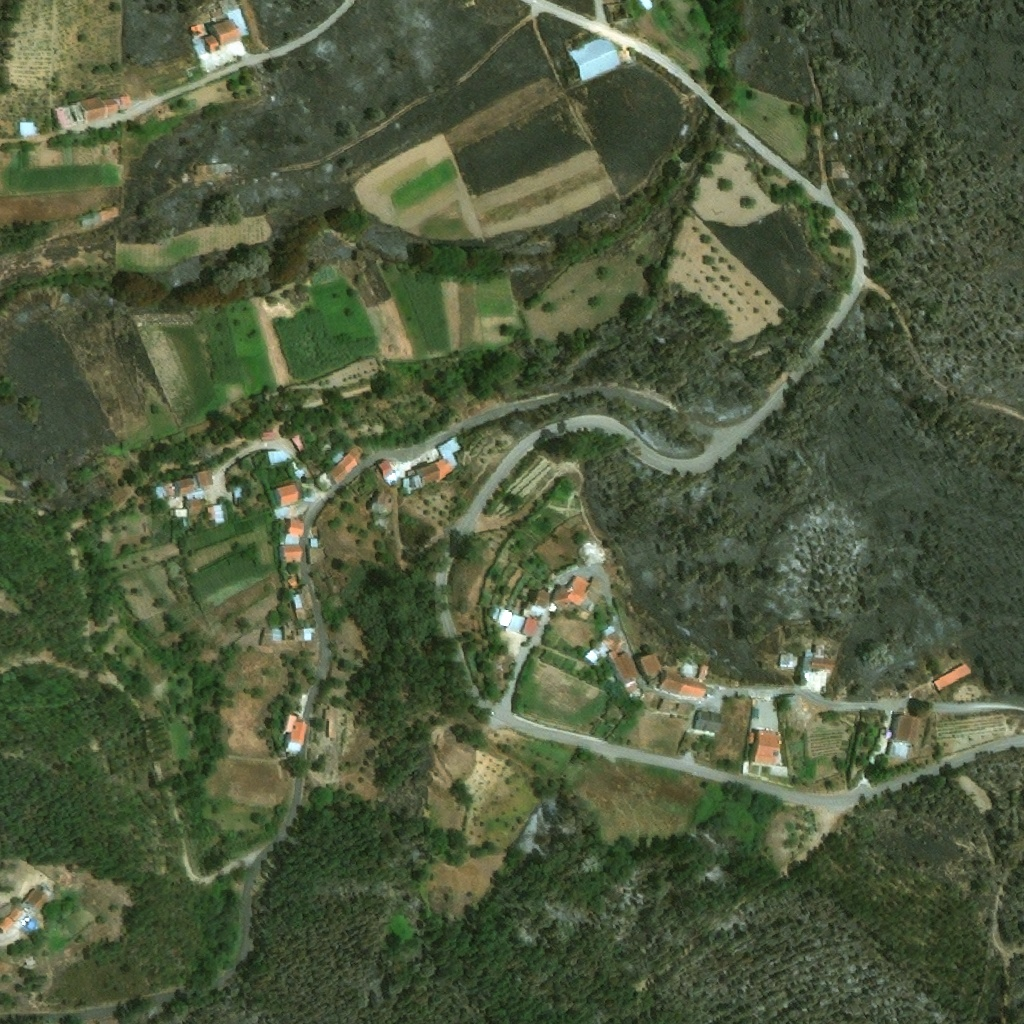0 no-damage: (188, 0, 250, 74), (583, 630, 638, 681), (649, 659, 716, 699), (569, 36, 622, 82), (375, 450, 439, 487), (417, 437, 460, 485), (747, 729, 789, 778), (885, 710, 920, 762), (798, 642, 831, 692), (326, 448, 361, 485), (552, 573, 589, 607), (686, 708, 723, 740), (279, 714, 307, 756), (932, 663, 971, 692), (279, 520, 305, 563), (80, 93, 120, 119), (52, 100, 86, 128), (172, 475, 205, 500), (522, 589, 549, 619), (636, 648, 662, 678), (81, 206, 119, 226), (25, 886, 54, 911), (296, 585, 315, 620), (368, 492, 393, 518), (273, 482, 300, 506), (398, 469, 422, 495), (490, 606, 515, 628), (8, 906, 32, 928), (195, 162, 238, 174), (584, 577, 602, 605), (0, 916, 21, 939), (290, 460, 308, 484), (508, 612, 527, 634), (207, 504, 226, 525), (521, 615, 539, 636), (779, 696, 802, 712), (294, 693, 308, 719), (196, 468, 215, 487), (19, 899, 38, 918), (323, 706, 335, 736), (272, 505, 294, 521), (616, 44, 633, 64), (624, 678, 641, 698), (316, 472, 334, 490), (155, 481, 173, 499), (290, 433, 306, 453), (267, 450, 288, 464), (780, 652, 796, 668), (827, 162, 844, 177), (311, 546, 325, 564), (21, 120, 37, 135), (165, 495, 183, 508), (317, 436, 331, 452), (187, 500, 203, 514), (306, 461, 320, 476), (233, 483, 243, 504), (283, 619, 295, 636), (115, 95, 128, 110), (302, 488, 315, 502), (291, 594, 303, 609), (260, 631, 272, 646), (260, 430, 276, 441), (287, 574, 299, 588), (602, 625, 616, 637), (169, 508, 187, 517), (373, 518, 387, 529), (332, 449, 343, 463), (272, 626, 282, 641), (303, 628, 313, 641), (301, 479, 313, 488), (311, 538, 321, 548), (548, 602, 557, 612), (752, 707, 759, 717), (308, 529, 313, 538)
3 destroyed: (604, 2, 628, 24)
4 un-classified: (768, 366, 788, 384), (672, 156, 693, 172), (639, 0, 654, 10), (176, 528, 186, 536), (282, 571, 289, 578)
